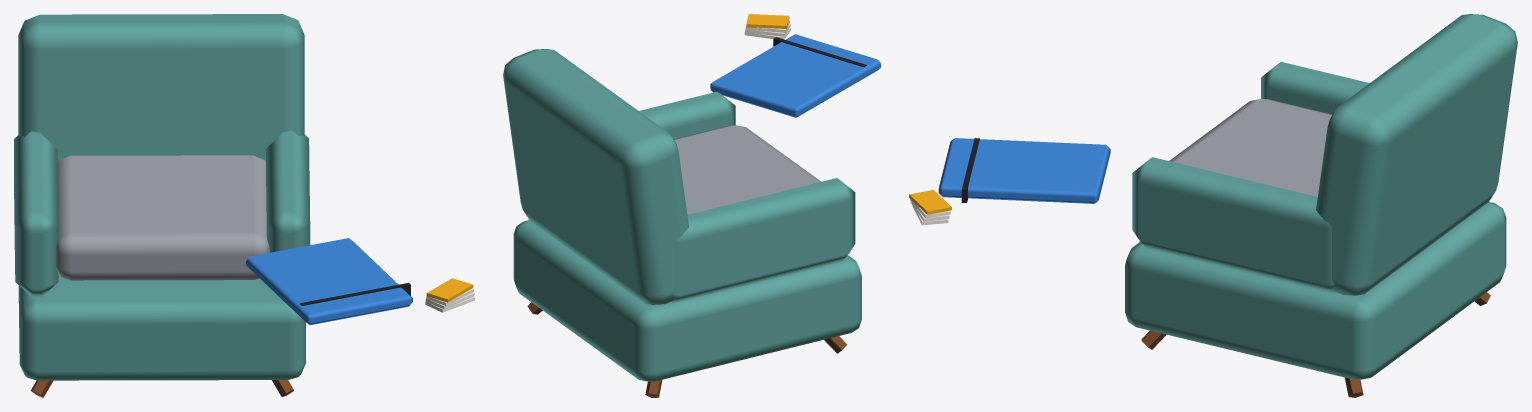
File: station_special_ausstattung_3_3.glb
3 renders of one model, left to right at view 1: azimuth 30°, elevation 25°; view 2: azimuth 150°, elevation 25°; view 3: azimuth 270°, elevation 25°, orthographic. The views are drawn at different scales.
Parts seen in each view (by area): view 1: station_special_ausstattung_3_3; view 2: station_special_ausstattung_3_3; view 3: station_special_ausstattung_3_3.
Part boxes in pixels (x1,y1,x2,y2): station_special_ausstattung_3_3: (14,14,474,397); station_special_ausstattung_3_3: (503,14,880,397); station_special_ausstattung_3_3: (909,14,1517,397).
Bounding box in the file's own units: 0.8714 × 0.7147 × 1.36.
